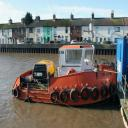tugboat: (12, 42, 119, 109)
